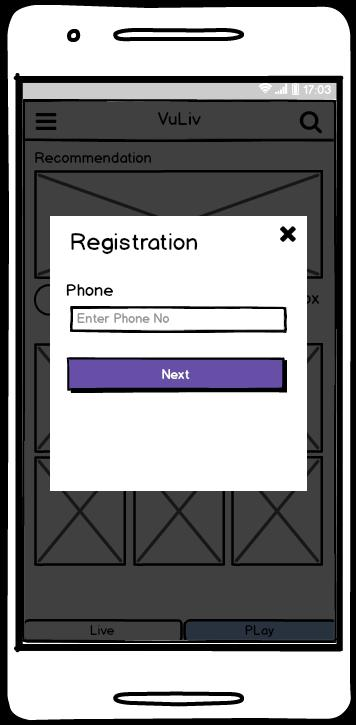EditText: (70, 305, 288, 334)
Icon: (277, 224, 298, 245)
Modal: (50, 216, 308, 492)
Text: (70, 231, 199, 255), (65, 283, 114, 298)
TextButton: (66, 356, 288, 393)
